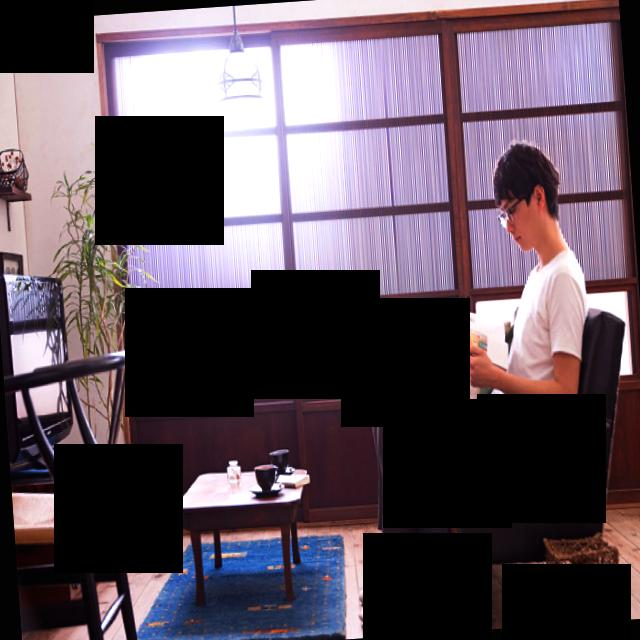vintage chair: (396, 303, 638, 634), (2, 350, 139, 640)
vintage desk: (168, 459, 316, 612)
